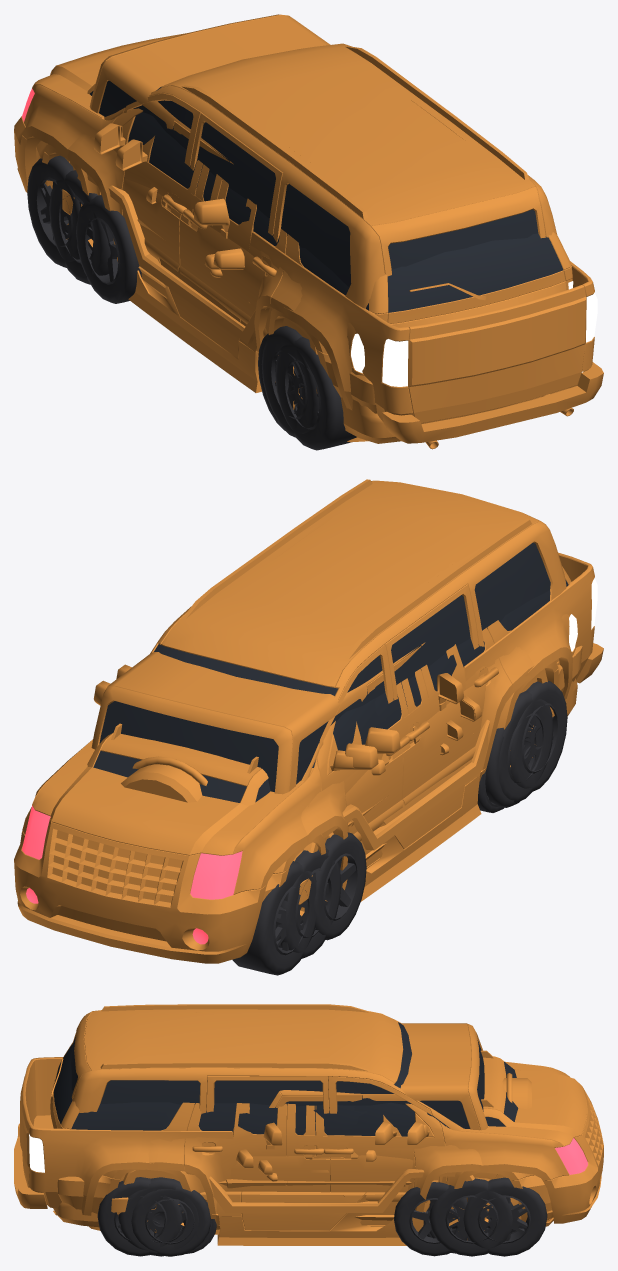
The model's file is traffic.glb.
3 renders of one model, top to bottom at view 1: azimuth 30°, elevation 25°; view 2: azimuth 150°, elevation 25°; view 3: azimuth 270°, elevation 25°, orthographic. The views are drawn at different scales.
Parts seen in each view (by area): view 1: minivan body_Body_0.001, Pickup Body_Body_0.001, SUV Body_Body_0.001, Offroad Body_Body_0.001, Sport body_Body_0.001, Wagon Body_Body_0.001; view 2: minivan body_Body_0.001, Pickup Body_Body_0.001, Offroad Body_Body_0.001, SUV Body_Body_0.001, Sport body_Body_0.001, Wagon Body_Body_0.001; view 3: minivan body_Body_0.001, Pickup Body_Body_0.001, SUV Body_Body_0.001, Offroad Body_Body_0.001, Sport body_Body_0.001, Wagon Body_Body_0.001.
Part boxes in pixels (<box>): minivan body_Body_0.001: <box>64,43,568,443</box>; Pickup Body_Body_0.001: <box>14,33,603,450</box>; SUV Body_Body_0.001: <box>36,98,573,437</box>; Offroad Body_Body_0.001: <box>62,14,330,430</box>; Sport body_Body_0.001: <box>117,257,368,442</box>; Wagon Body_Body_0.001: <box>87,84,244,269</box>; minivan body_Body_0.001: <box>150,479,577,947</box>; Pickup Body_Body_0.001: <box>14,552,603,975</box>; Offroad Body_Body_0.001: <box>91,642,554,940</box>; SUV Body_Body_0.001: <box>116,516,582,958</box>; Sport body_Body_0.001: <box>342,743,504,901</box>; Wagon Body_Body_0.001: <box>87,695,481,805</box>; minivan body_Body_0.001: <box>53,1004,553,1233</box>; Pickup Body_Body_0.001: <box>14,1057,603,1256</box>; SUV Body_Body_0.001: <box>49,1012,553,1256</box>; Offroad Body_Body_0.001: <box>111,1023,531,1256</box>; Sport body_Body_0.001: <box>185,1173,453,1253</box>; Wagon Body_Body_0.001: <box>118,1050,518,1253</box>.
Size of the model in its own units: 2.07 by 1.76 by 5.18.
